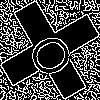O: (25, 25, 85, 82)
